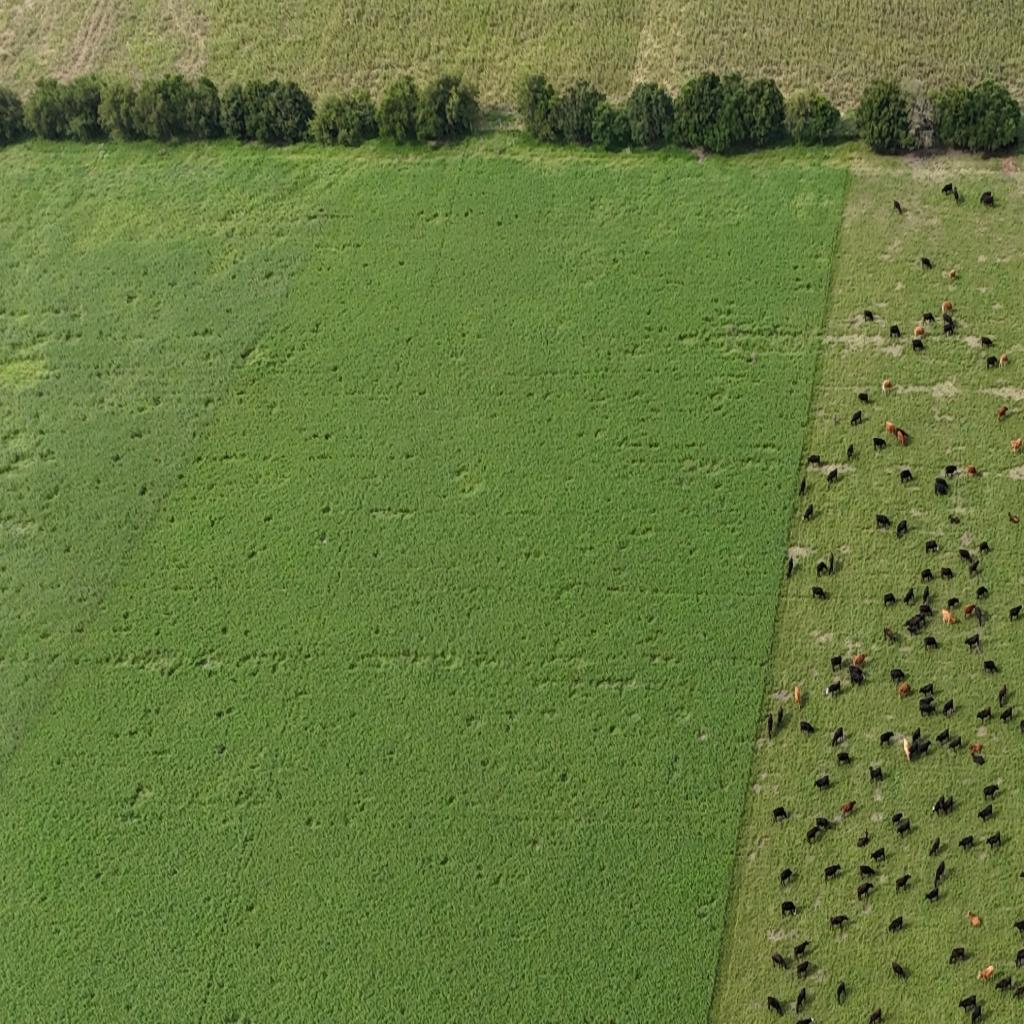cow: (770, 703, 786, 732), (973, 604, 989, 628), (913, 738, 932, 758), (959, 994, 977, 1014), (829, 914, 849, 932), (849, 664, 865, 686), (857, 880, 874, 900), (892, 960, 908, 981), (767, 995, 783, 1016), (978, 964, 996, 982), (919, 698, 936, 717), (794, 940, 810, 960), (806, 824, 822, 844), (896, 818, 912, 838), (928, 835, 942, 857), (949, 946, 966, 964), (995, 974, 1012, 992), (824, 864, 841, 882), (888, 915, 904, 934), (986, 832, 1002, 851), (978, 804, 994, 823), (932, 796, 947, 816), (770, 952, 786, 970), (895, 874, 911, 892), (983, 783, 999, 801), (904, 617, 922, 633), (942, 608, 957, 627), (934, 478, 948, 498), (970, 1004, 984, 1024), (796, 960, 810, 980), (869, 764, 883, 784), (942, 796, 956, 816), (772, 806, 788, 823), (814, 774, 830, 791), (977, 707, 993, 724), (870, 847, 886, 864), (918, 602, 934, 619), (781, 900, 796, 918), (935, 859, 945, 886), (959, 834, 974, 852), (965, 634, 980, 652), (796, 987, 806, 1013), (831, 727, 844, 747), (903, 587, 916, 607), (836, 750, 852, 766), (890, 668, 906, 684), (859, 864, 876, 879), (959, 549, 974, 566), (968, 910, 982, 928), (841, 800, 855, 818), (884, 626, 898, 644), (1000, 706, 1014, 724), (936, 728, 950, 746), (800, 721, 816, 736), (876, 514, 892, 529), (983, 659, 999, 674), (816, 816, 832, 831), (920, 683, 936, 698), (856, 831, 870, 848), (902, 737, 911, 763), (780, 868, 792, 887), (852, 652, 867, 667), (868, 1007, 882, 1023), (971, 752, 985, 768), (898, 682, 912, 698), (880, 730, 894, 746), (963, 603, 977, 619), (925, 887, 939, 903), (949, 735, 962, 752), (943, 318, 954, 338), (998, 683, 1008, 705), (837, 981, 846, 1005), (896, 520, 908, 538), (910, 728, 921, 747), (981, 191, 994, 207), (900, 468, 913, 484), (976, 585, 989, 601), (802, 505, 814, 522), (816, 561, 828, 578), (830, 655, 842, 672), (968, 559, 980, 576), (943, 699, 954, 717), (807, 454, 821, 468), (924, 636, 938, 650), (873, 437, 886, 452), (925, 539, 938, 554), (921, 568, 934, 583), (974, 544, 987, 559), (826, 468, 838, 484), (892, 811, 904, 827), (885, 420, 897, 436), (812, 587, 826, 600), (1007, 511, 1020, 525), (944, 465, 958, 478), (883, 593, 896, 607), (943, 269, 957, 282), (851, 410, 862, 426), (794, 684, 801, 709), (969, 742, 982, 755), (947, 598, 960, 611), (889, 325, 901, 339), (981, 336, 995, 348), (986, 355, 998, 369), (786, 556, 793, 580), (912, 338, 924, 352), (767, 712, 773, 740), (913, 324, 925, 338), (940, 568, 954, 580), (825, 683, 837, 697), (922, 586, 930, 607), (942, 300, 953, 315), (1015, 604, 1024, 622), (882, 378, 892, 394), (897, 430, 907, 446), (921, 257, 933, 270), (997, 407, 1008, 421), (796, 1015, 813, 1024), (858, 393, 870, 405), (941, 183, 953, 195), (966, 465, 978, 477), (923, 312, 935, 324), (979, 541, 991, 553), (1016, 982, 1024, 1000), (893, 200, 903, 214), (948, 514, 962, 524), (952, 186, 960, 203), (799, 477, 806, 496), (828, 552, 834, 574), (1000, 354, 1010, 367), (1018, 946, 1024, 967), (864, 310, 874, 322), (1016, 437, 1024, 452), (847, 444, 854, 460), (1018, 918, 1024, 936), (833, 413, 839, 425), (1021, 720, 1024, 735)
